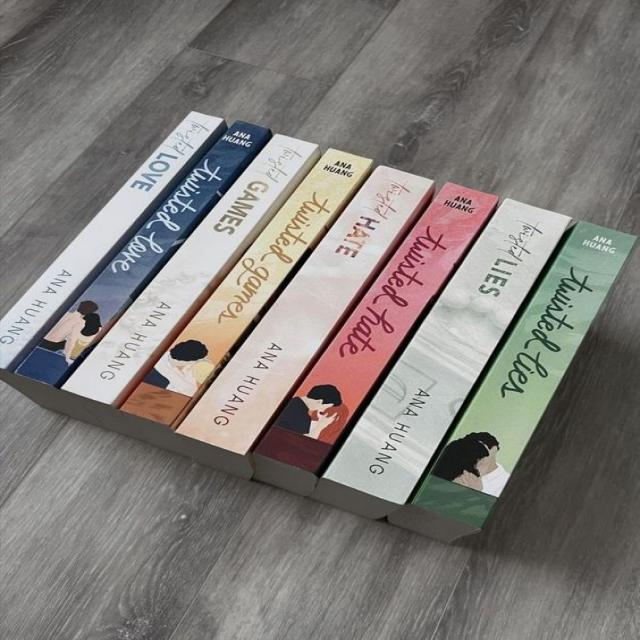book: (388, 222, 634, 540), (321, 199, 570, 505), (175, 167, 431, 455), (121, 149, 370, 426), (255, 183, 497, 467), (62, 137, 314, 407), (0, 112, 222, 370), (66, 123, 268, 331), (16, 337, 95, 388)
